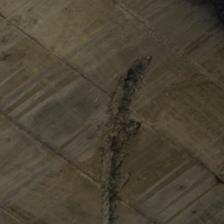Crack: (51, 28, 104, 193)
